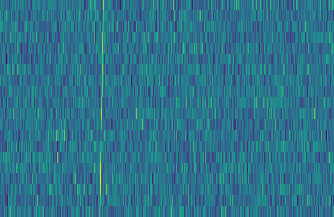signal: (94, 0, 106, 217)
